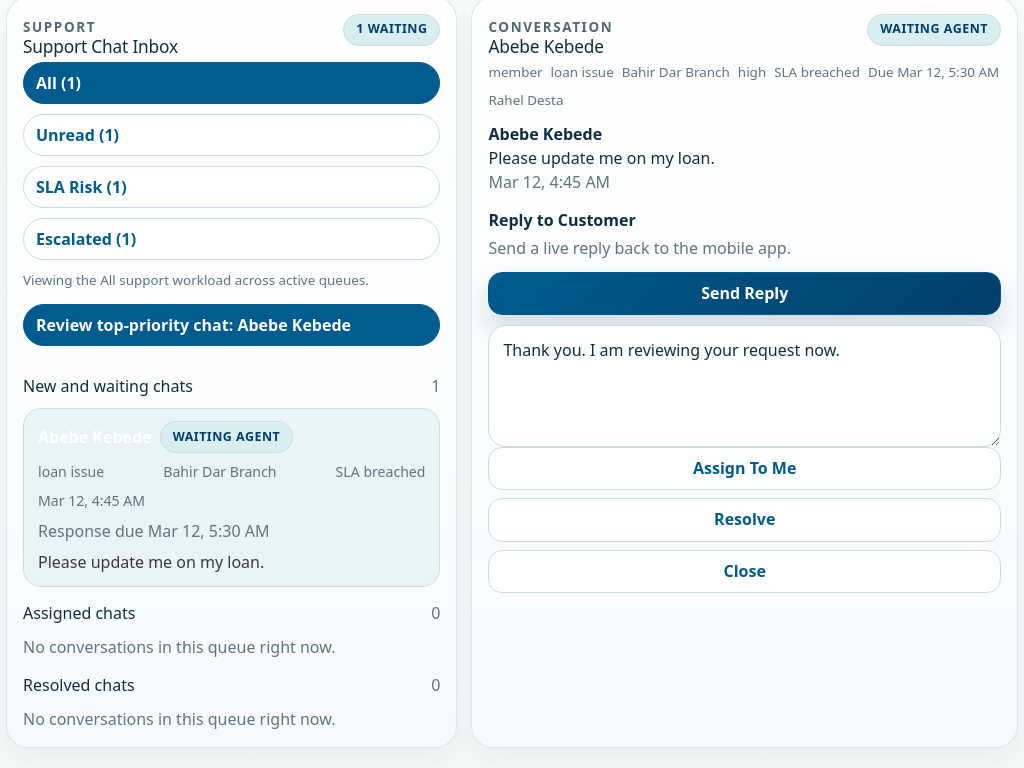
Scenario: console E2E flows › stores a staff reply in support chat workflow
The width and height of the screenshot is (1024, 768).
(page scrolled)
Click the button "Abebe Kebede" at (95, 437), box [23,408,440,587]
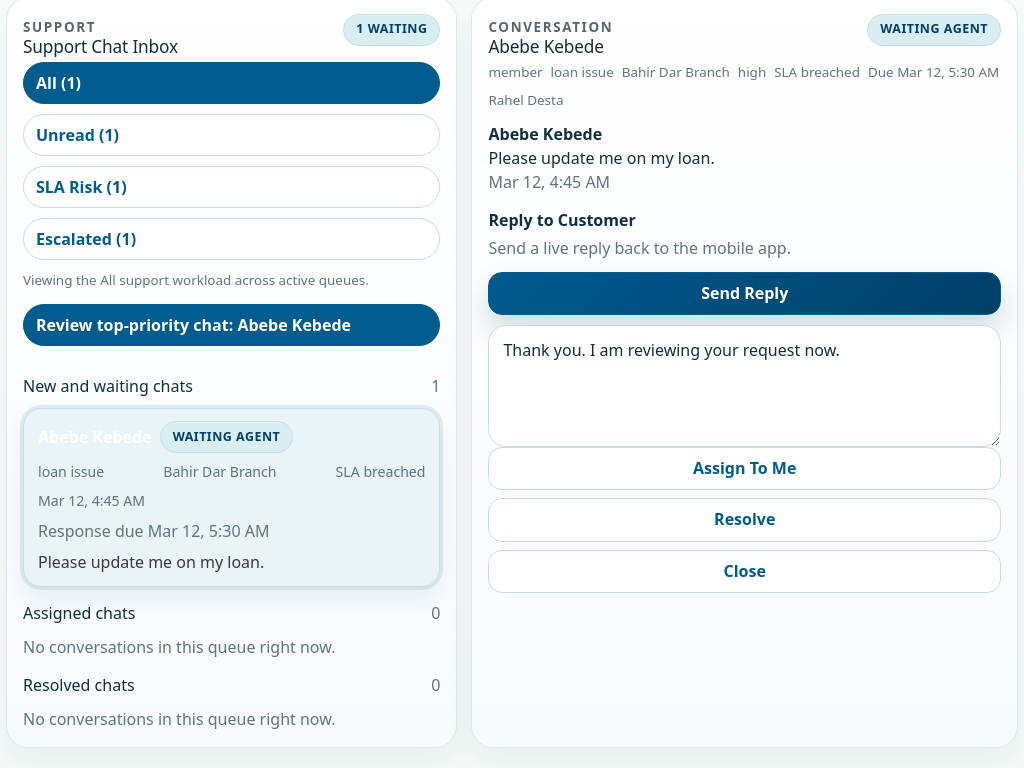
Replace the text in the text box with placeholder "Type your reply to the customer" with "Thank you. Your loan is now in branch review." at (745, 386), box [488,325,1001,447]
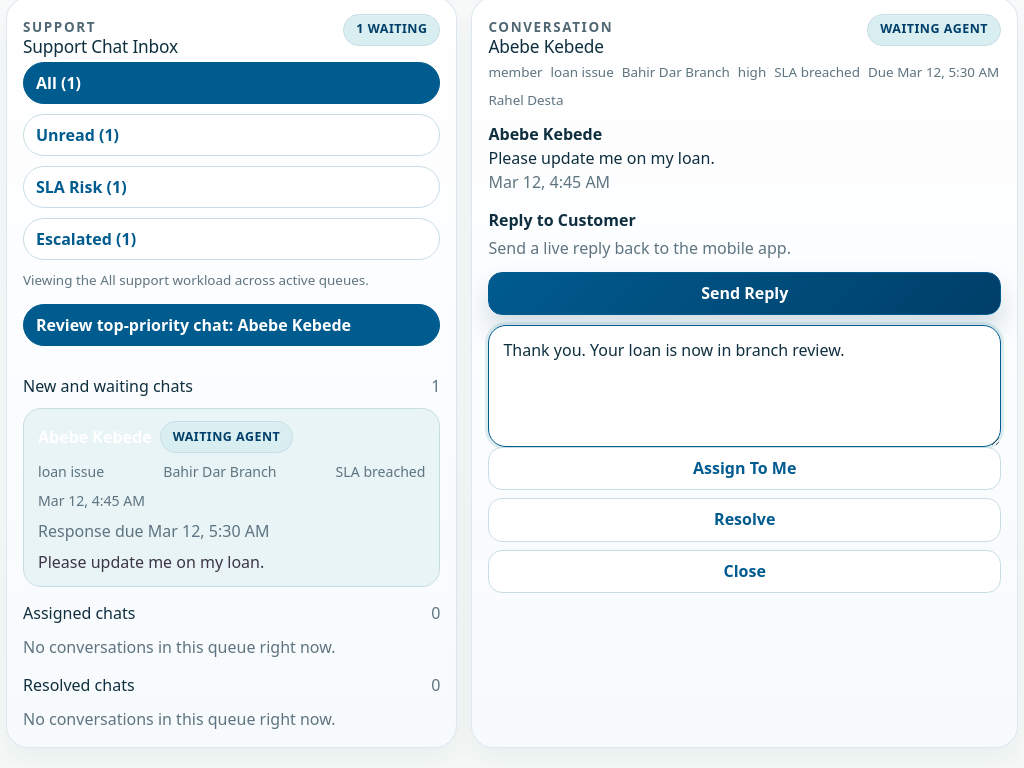
Click the button "Send Reply" at (745, 294), box [488,272,1001,315]
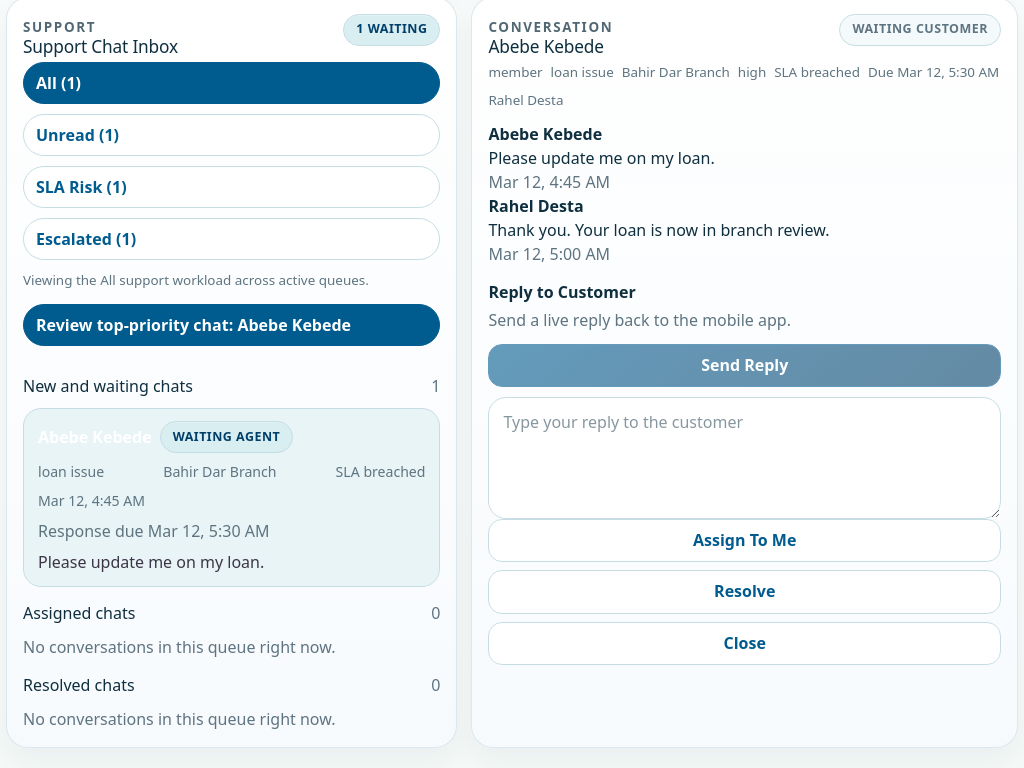
expect the text "Thank you. Your loan is now in branch review." is shown: met, box [488,219,830,241]
